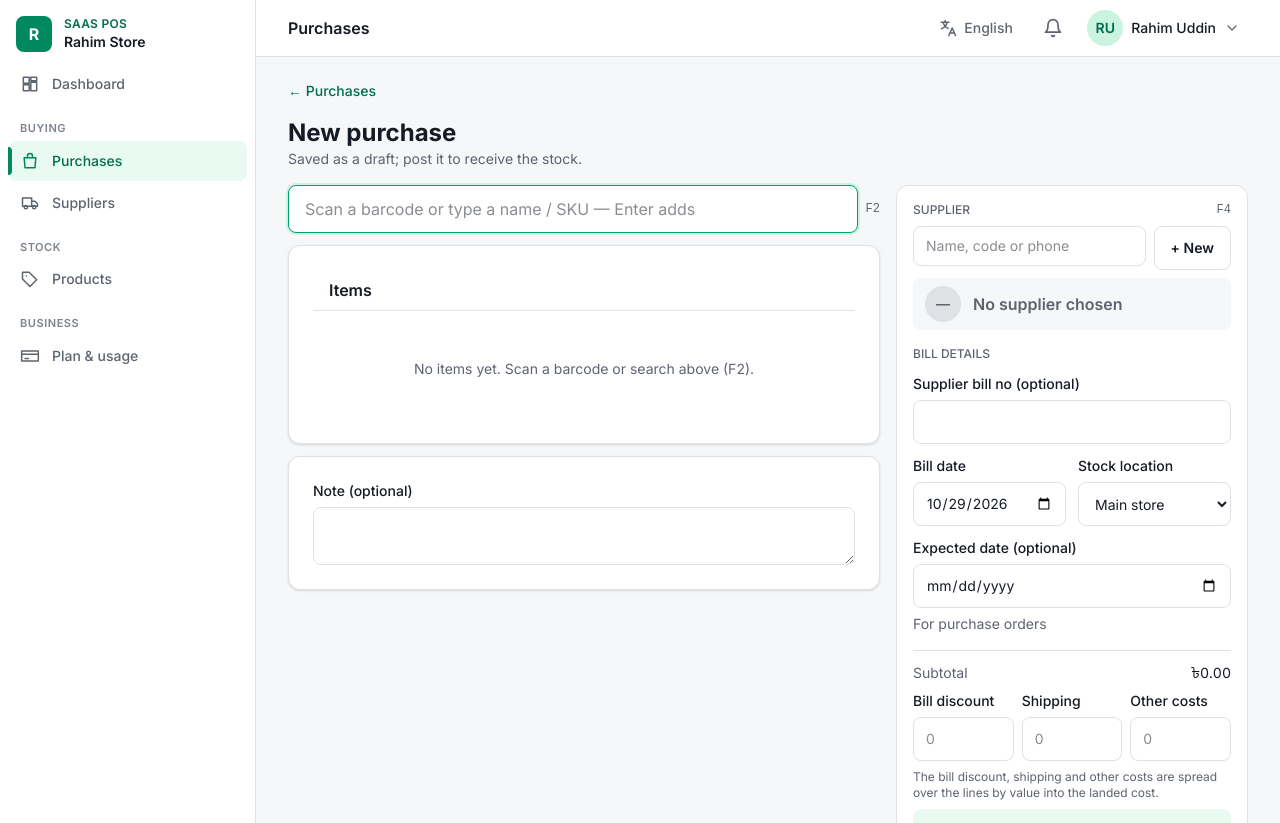
Test: purchases › adds a scanned SKU at once and quick-adds a new supplier
Type "P000001" into the dropdown named "Add product".
click(573, 209); type("P000001")  # box [288,185,858,233]
Then press Enter
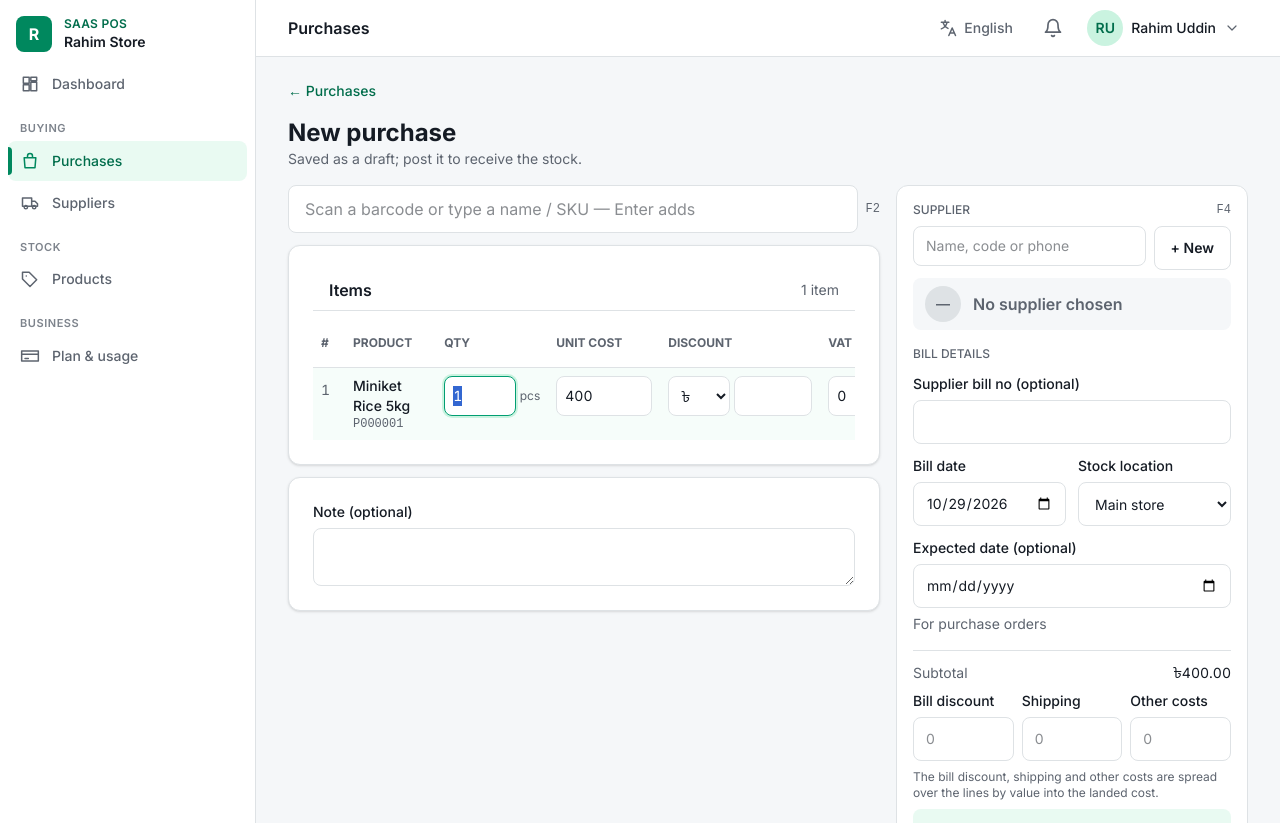
Now the field named "Qty Miniket Rice 5kg" holds "1", box [444,376,516,416]
Type "P000001" into the dropdown named "Add product".
click(573, 209); type("P000001")  # box [288,185,858,233]
Then press Enter
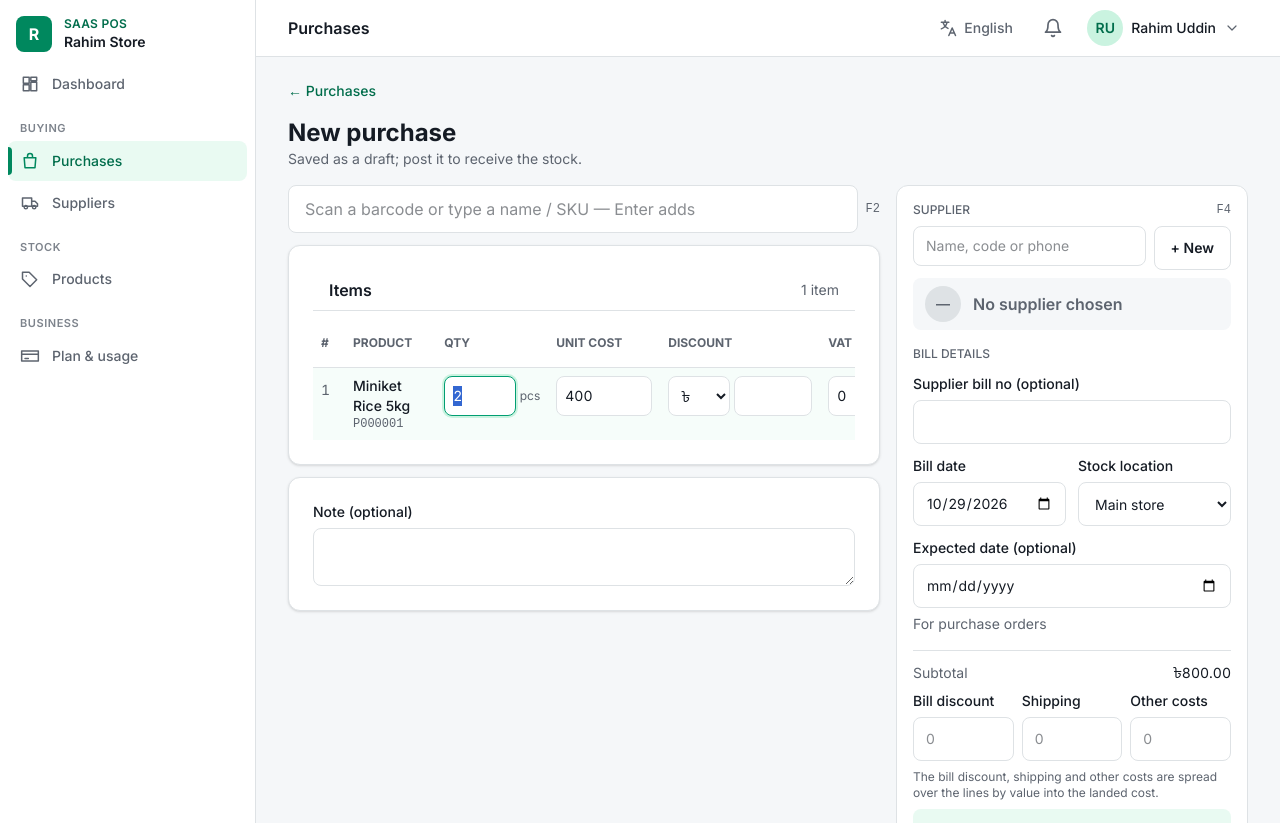
Now the field named "Qty Miniket Rice 5kg" holds "2", box [444,376,516,416]
Type "Salam Traders" into the dropdown named "Find supplier".
click(1029, 246); type("Salam Traders")  # box [913,226,1146,266]
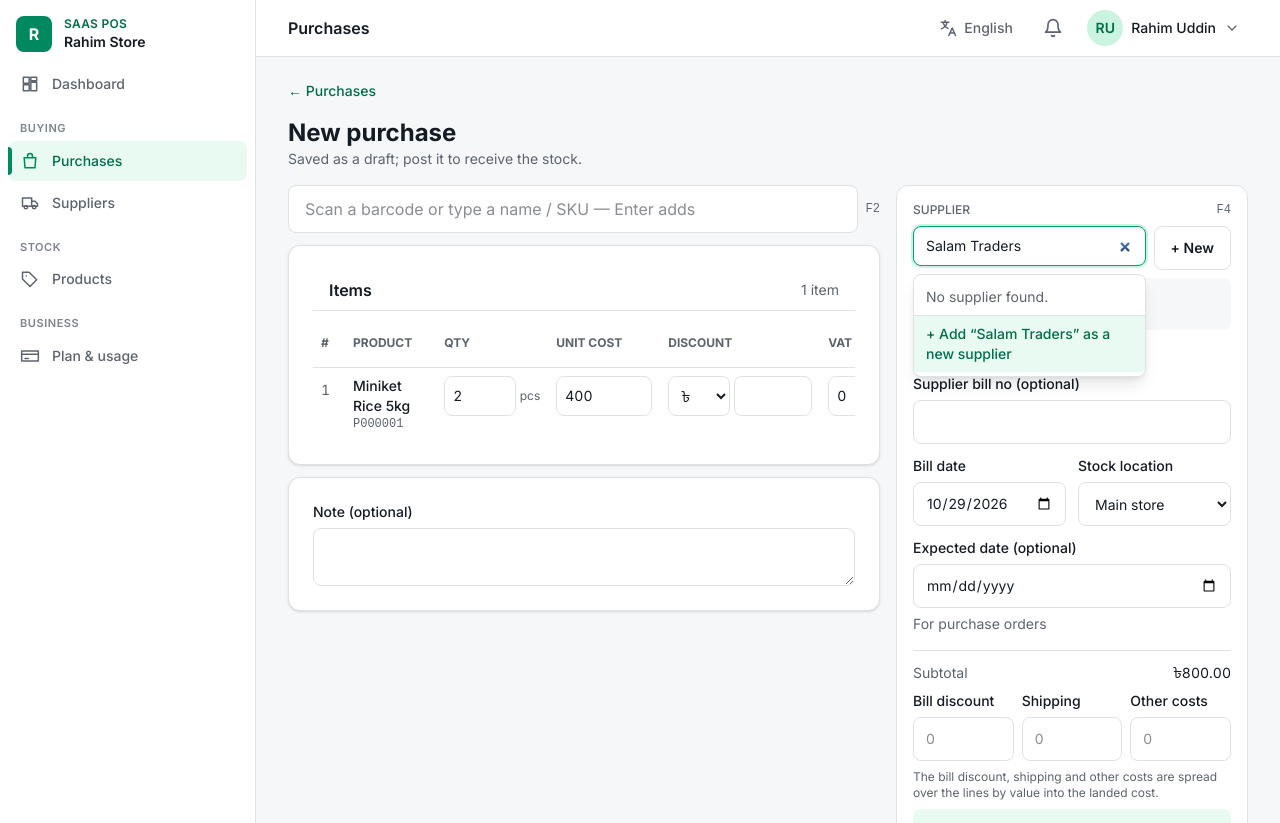
Click the option "+ Add “Salam Traders” as a new supplier".
click(1029, 344)  # box [914,315,1145,372]
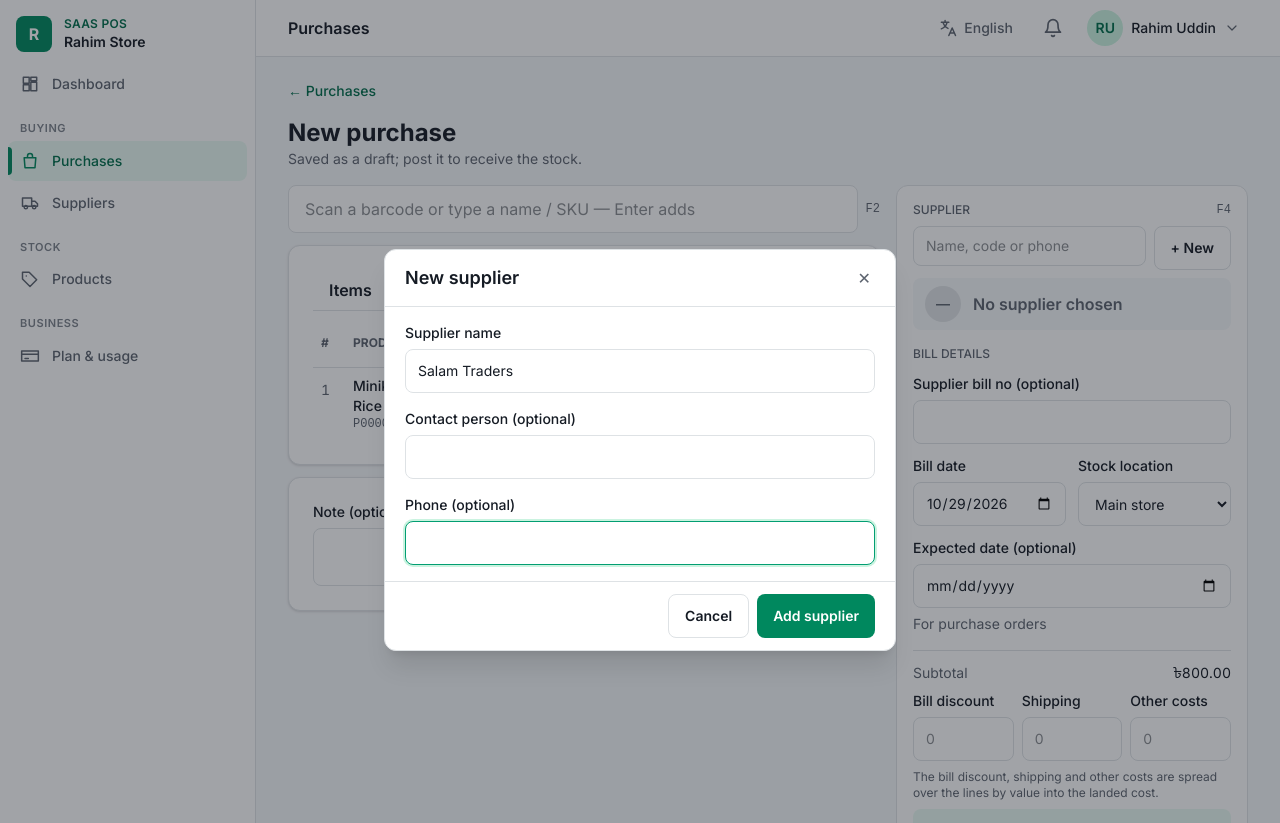
Now the field labelled "Supplier name" holds "Salam Traders", box [405,349,875,393]
Type "01811000009" into the field labelled "Phone (optional)".
click(640, 543); type("01811000009")  # box [405,521,875,565]
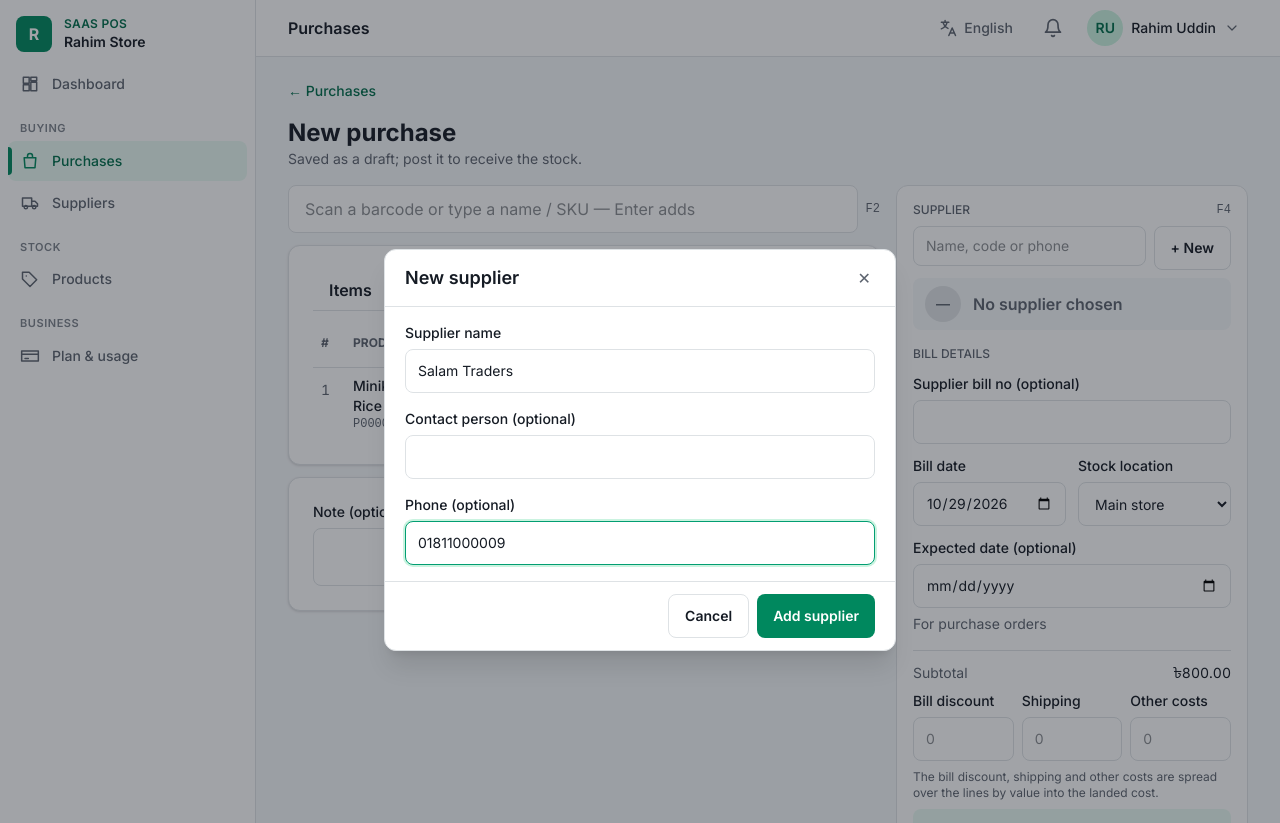
Click the button "Add supplier".
click(816, 616)  # box [757,594,875,638]
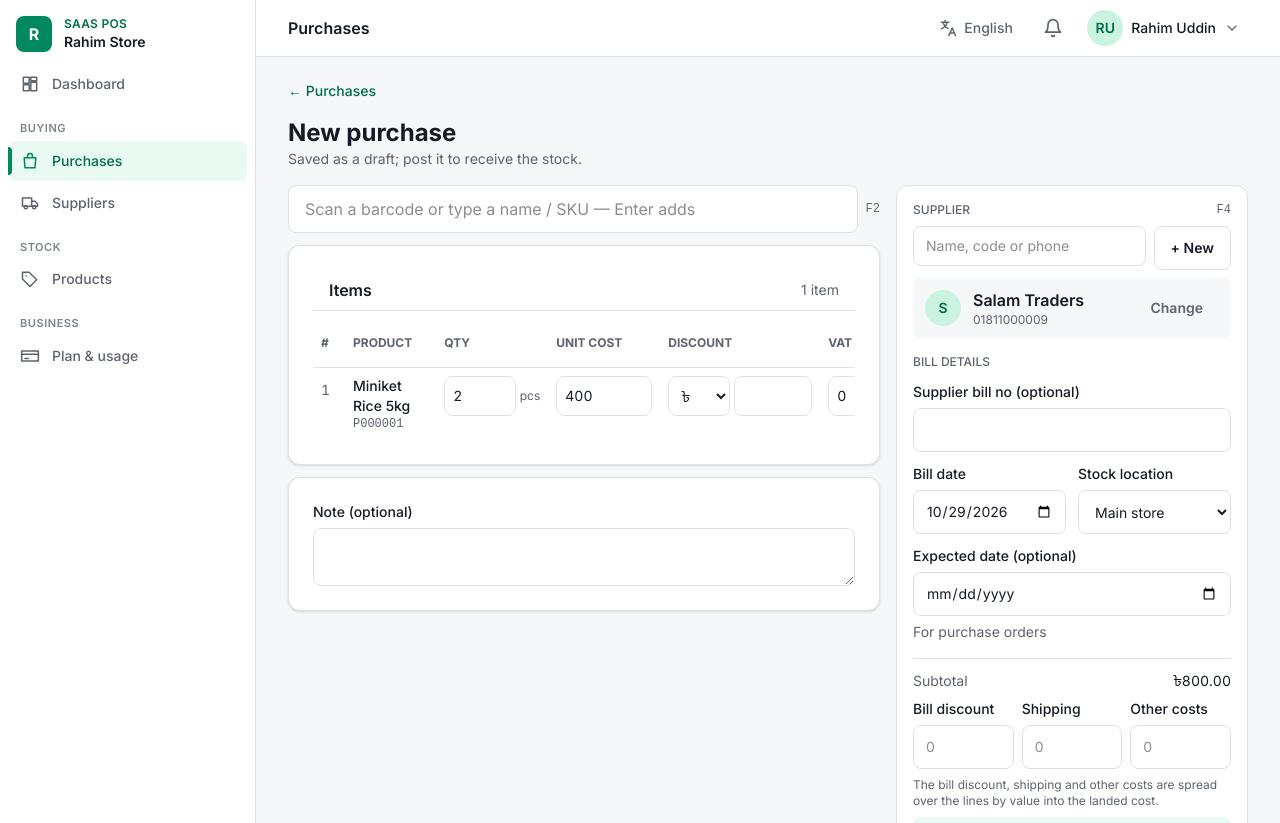
Now the text with test id "purchase-supplier" reads "Salam Traders", box [973,290,1084,310]
